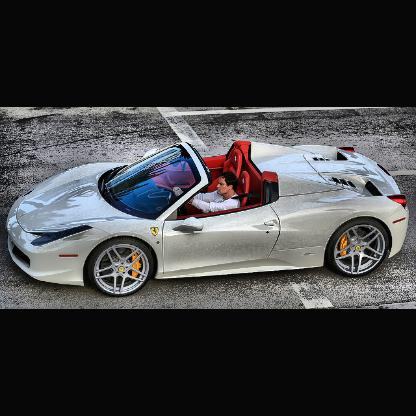Ferrari 458 Italia Convertible 2012: (8, 141, 411, 297)
